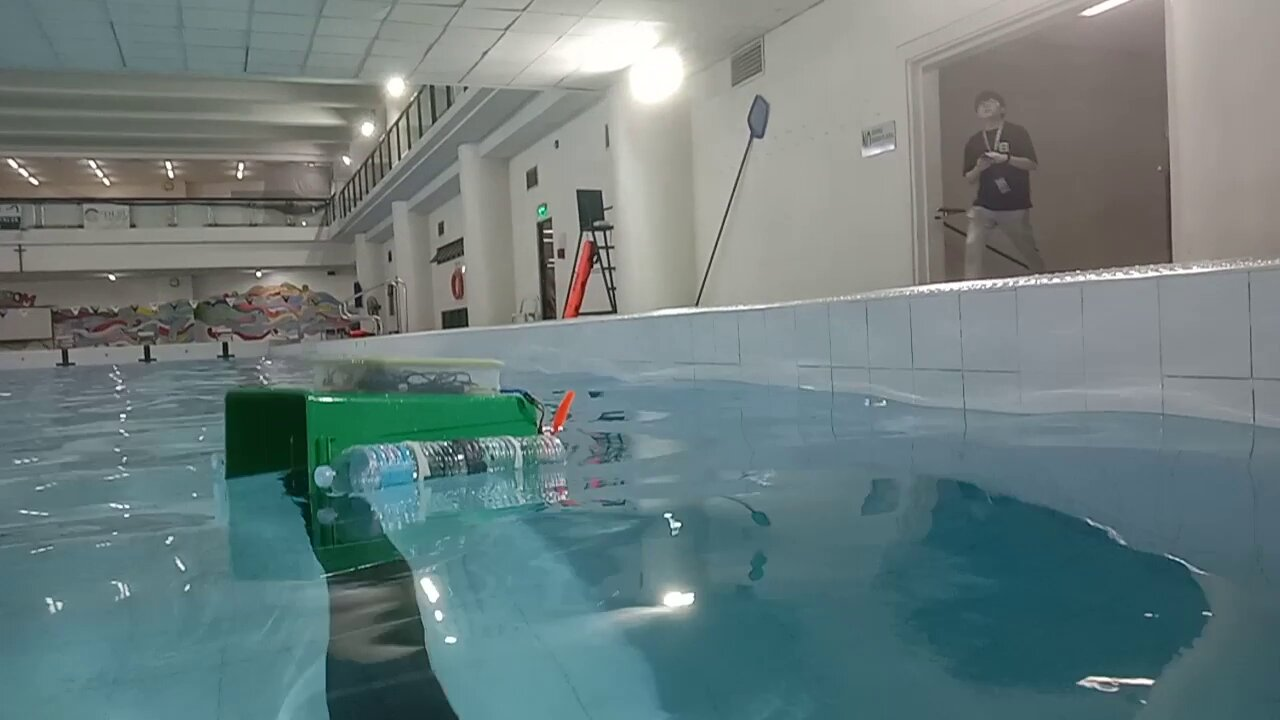drone: (225, 358, 575, 493)
